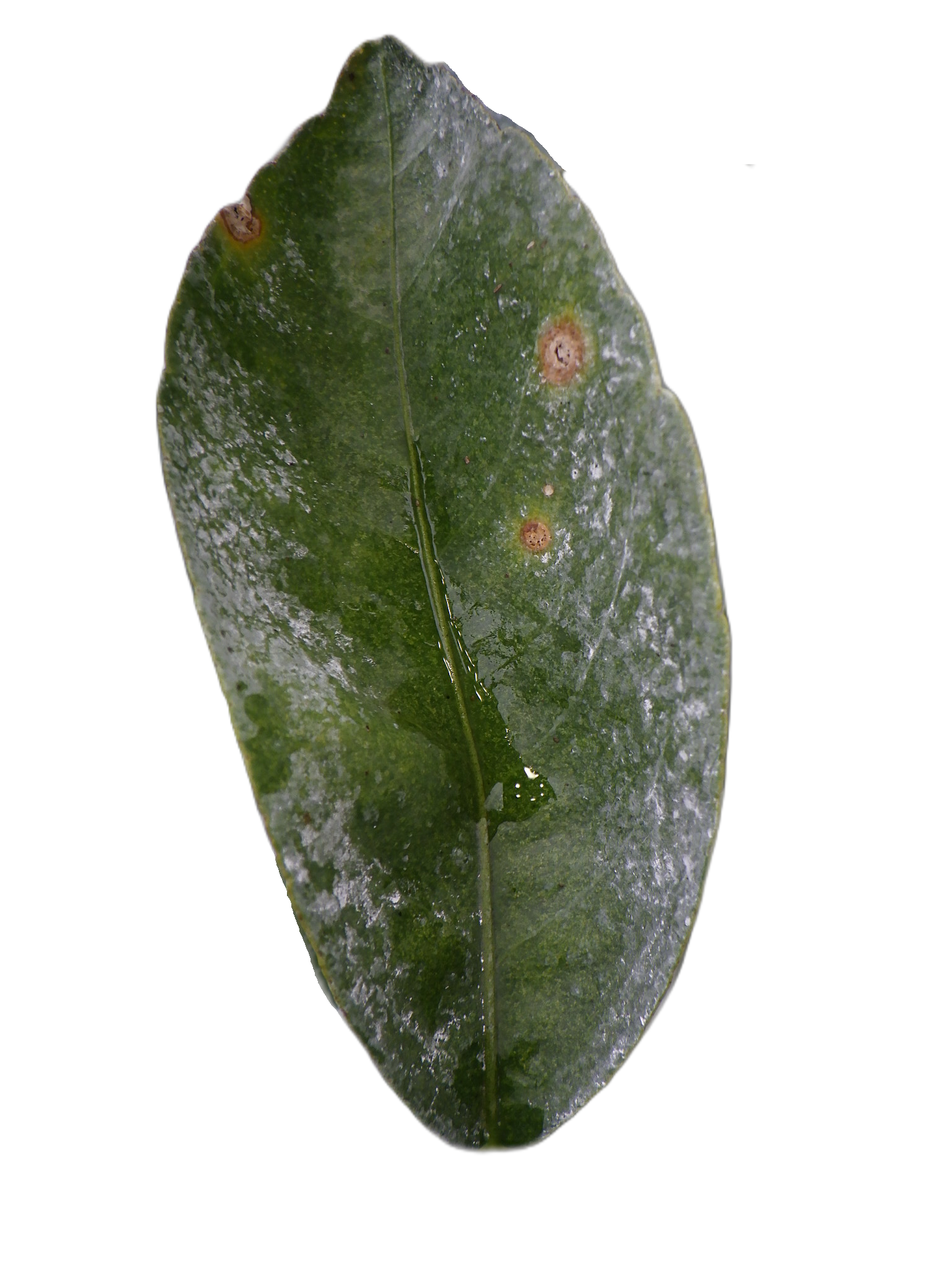Canker: (538, 318, 584, 385), (222, 195, 261, 245), (520, 516, 550, 551)
